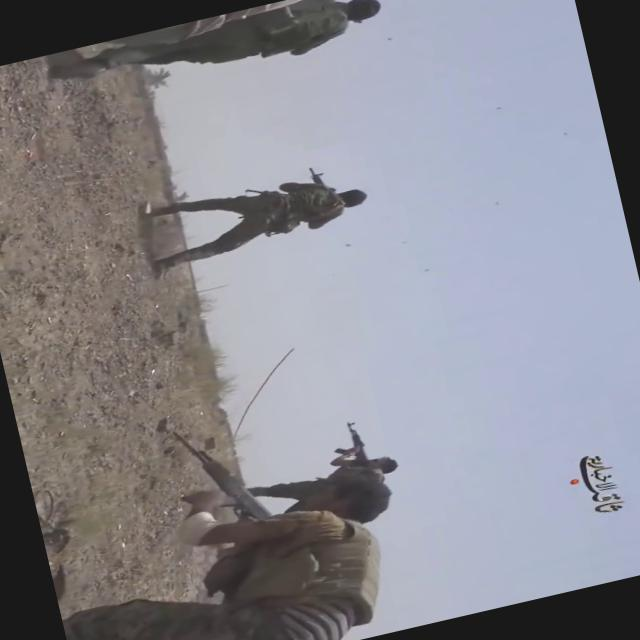long weapon: (154, 399, 276, 544), (321, 413, 381, 478)
